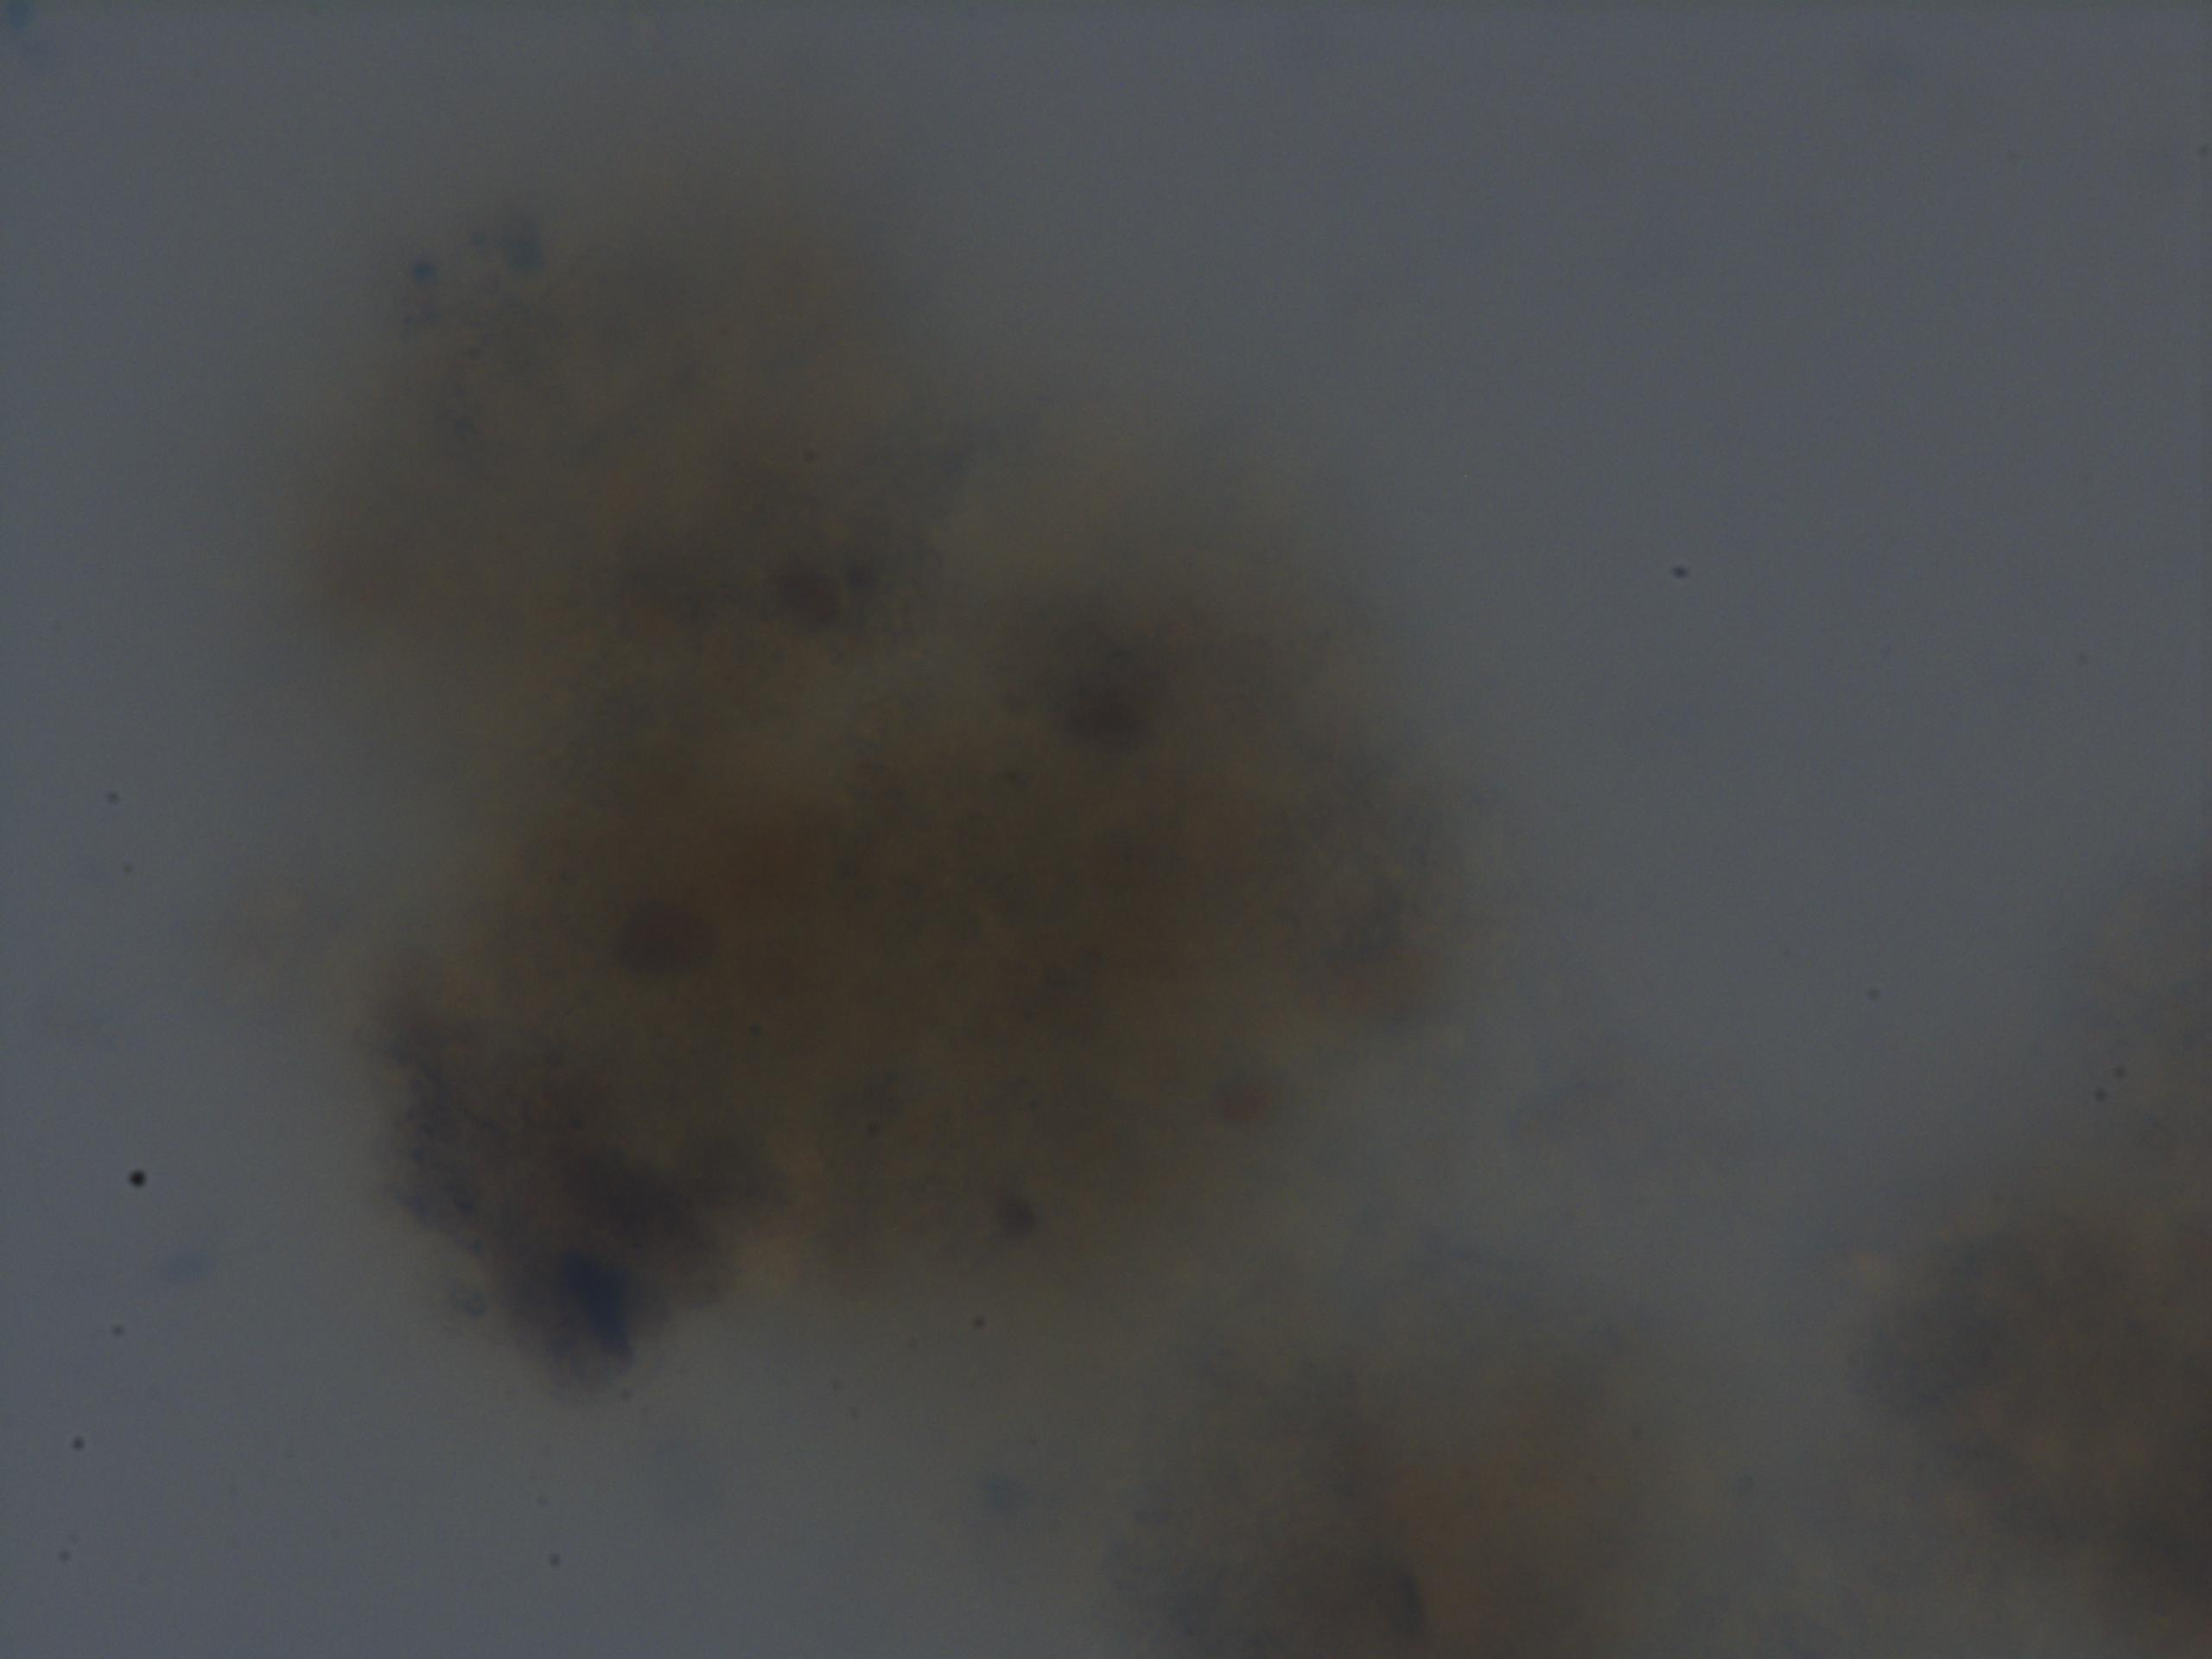spherical_floc: (266, 192, 1498, 1403)
